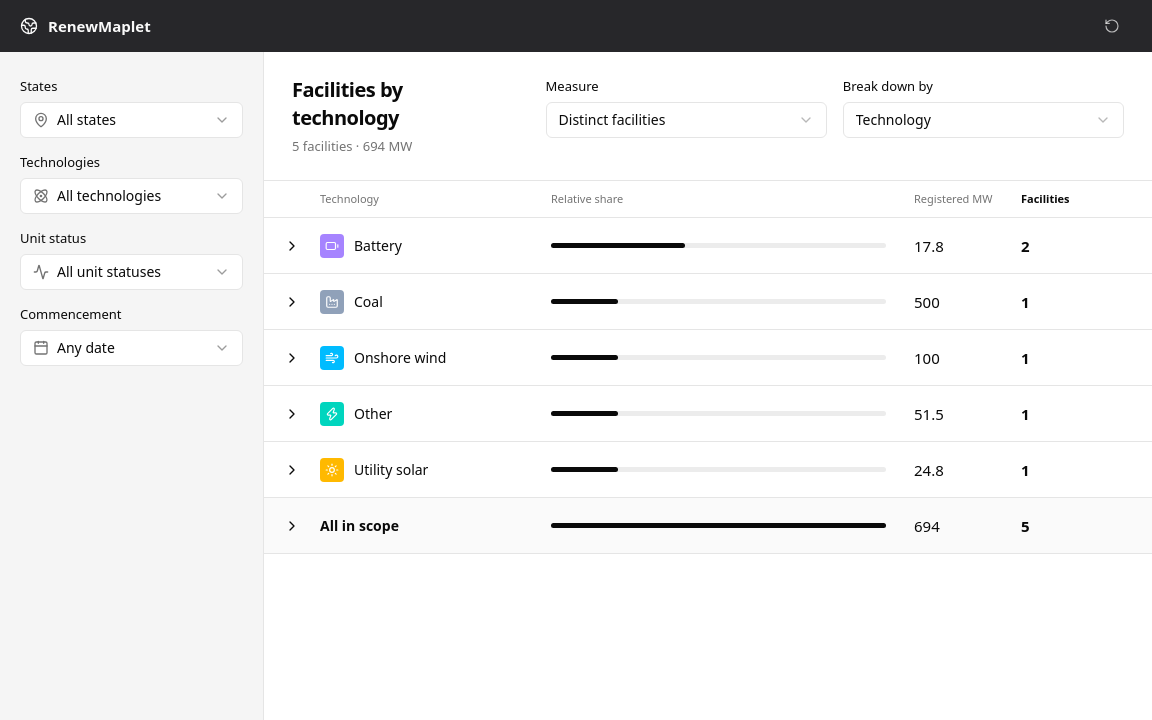
Test: the header reset returns every filter to its default
Click the dropdown labelled "states". click: (132, 120)
box: [20,102,243,138]
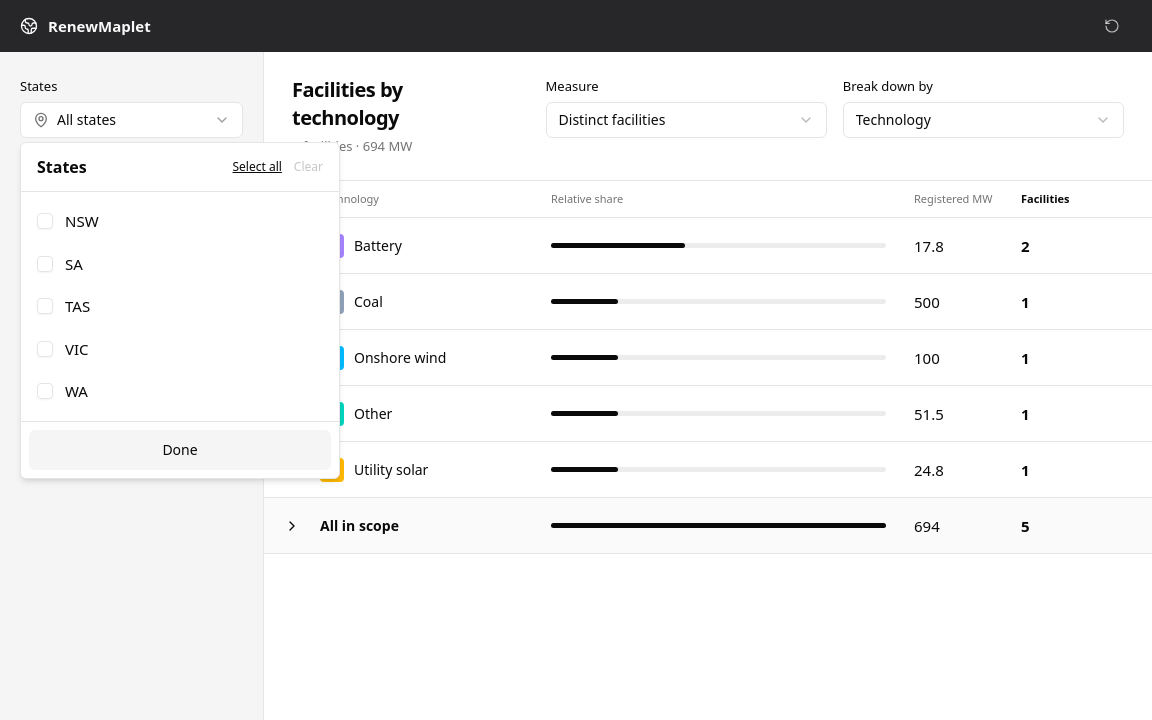
Click the checkbox named "VIC" next to "VIC". click: (45, 349)
box: [37,341,53,357]
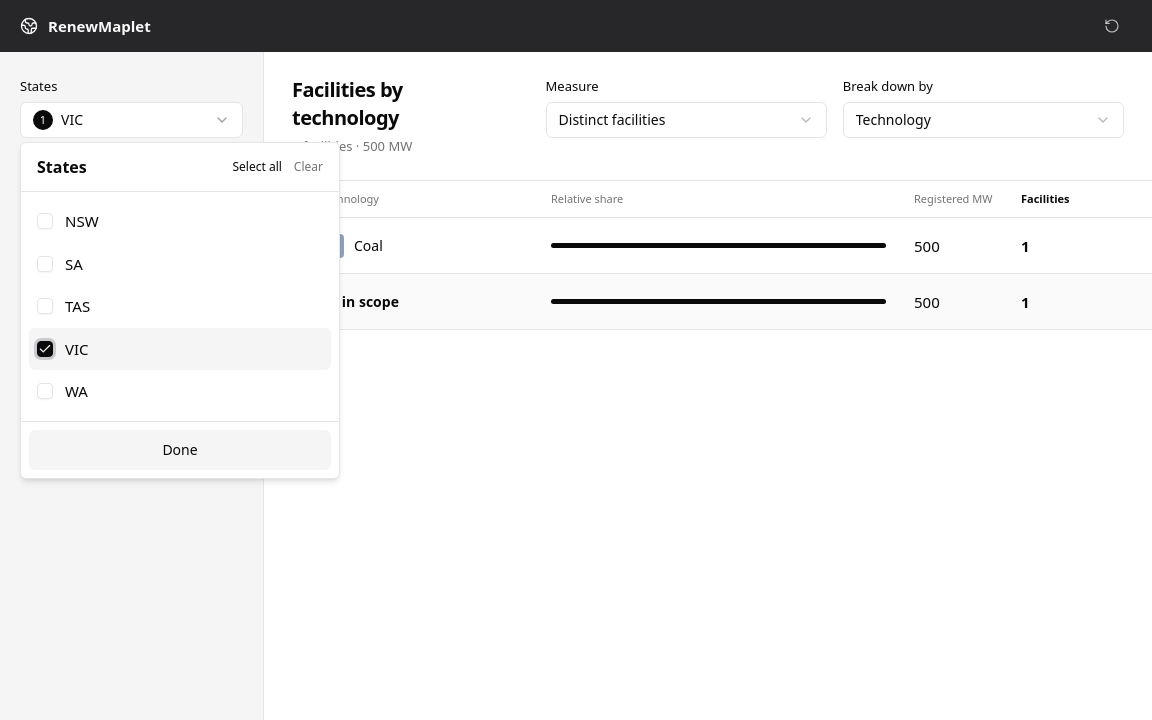
Press Escape
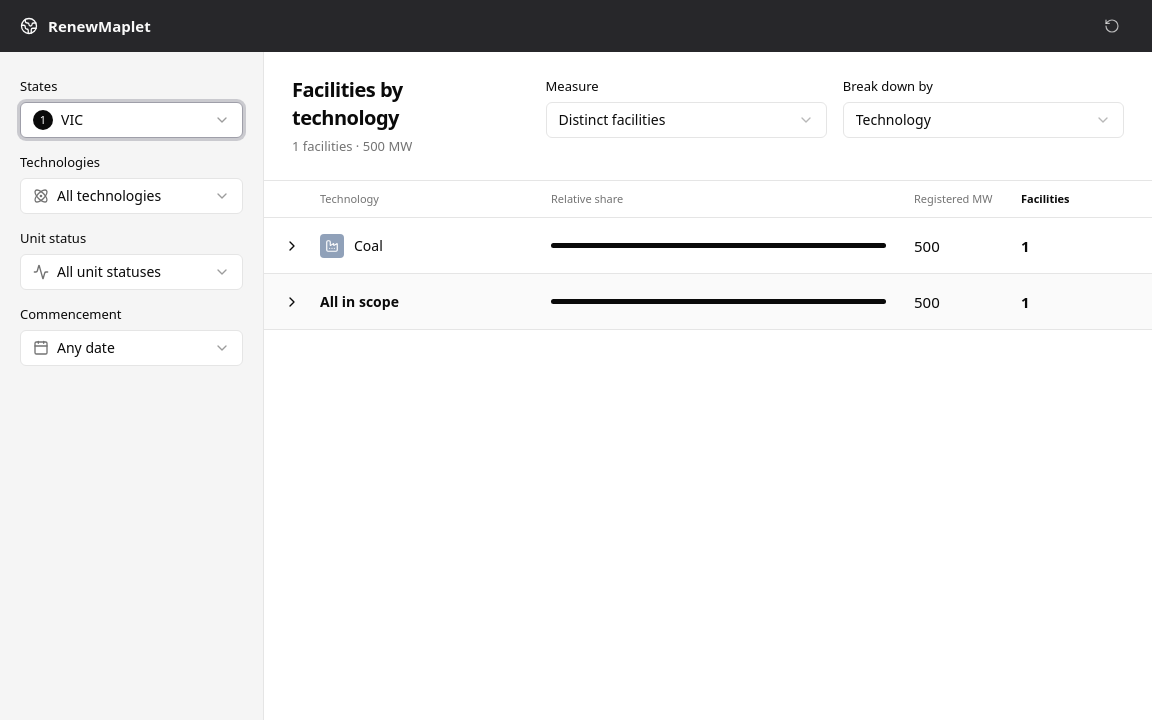
Expected: the dropdown named "States" shows "1", [20,102,243,138]
Click the button named "Reset all filters". click: (1112, 26)
box: [1096,10,1128,42]
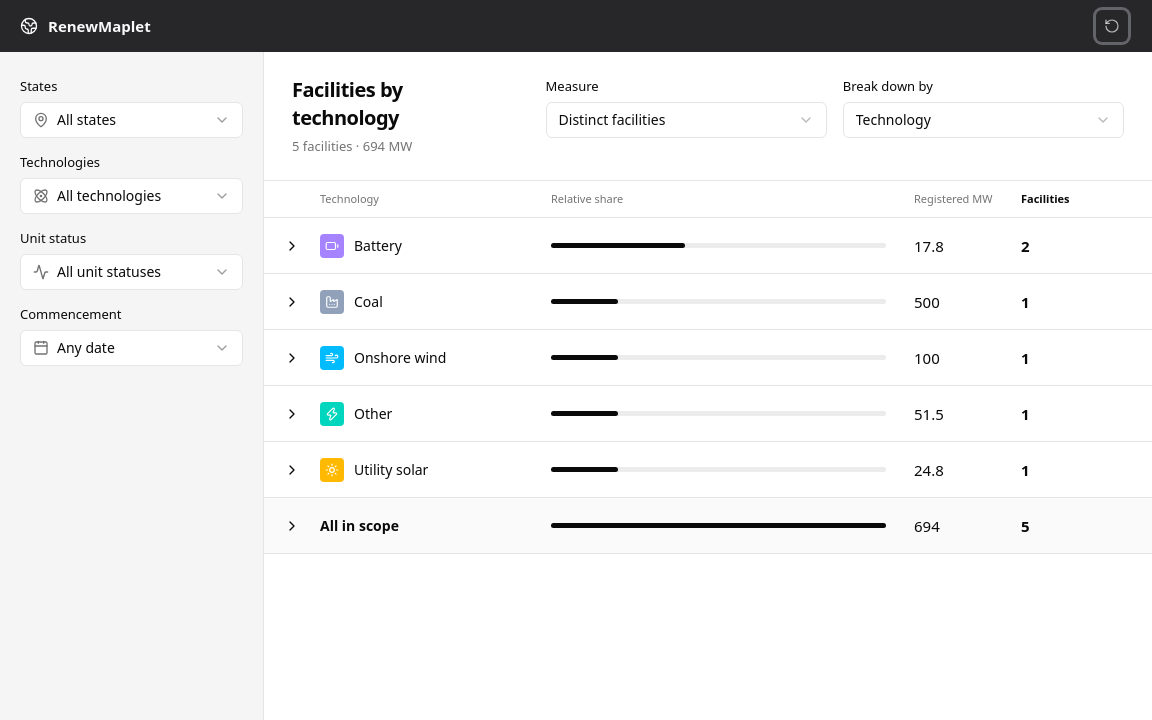
Expected: the dropdown labelled "states" reads "All states", [20,102,243,138]
Expected: the text "5 facilities · 694 MW" is shown, [292,137,412,155]
